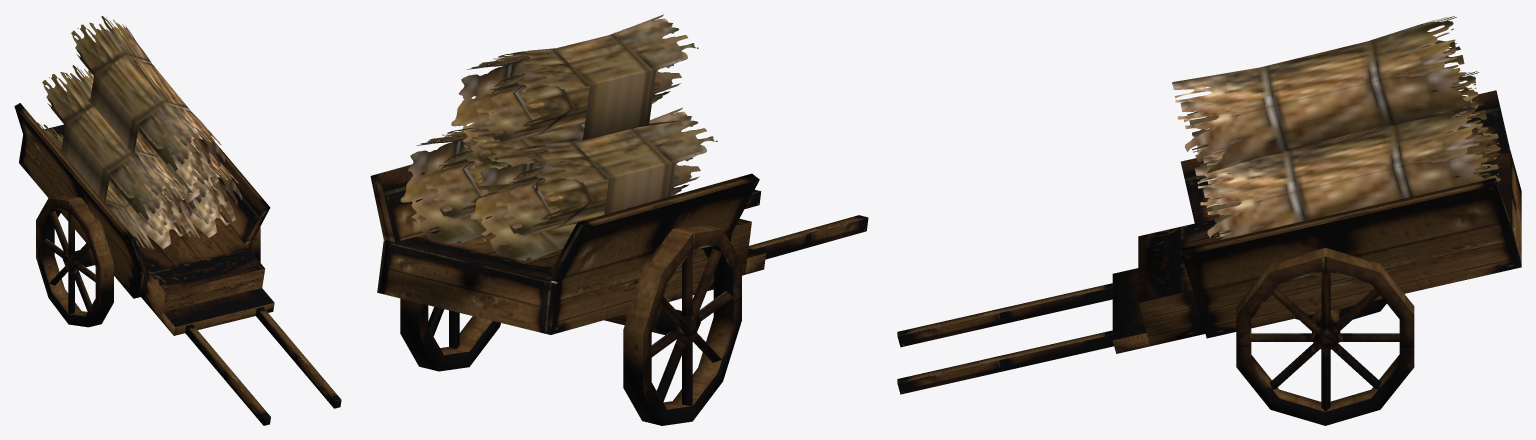
3 views of the same model, side by side, from view 1: azimuth 30°, elevation 25°; view 2: azimuth 150°, elevation 25°; view 3: azimuth 270°, elevation 25° (orthographic). The views are drawn at different scales.
Visible parts, largest first — view 1: wj076; view 2: wj076; view 3: wj076.
Boxes of the visible parts, box(x1,y1,x2,y2) form: wj076: box(14, 16, 341, 425); wj076: box(370, 14, 868, 425); wj076: box(897, 16, 1521, 425).
Size of the model in its own units: 455 by 696 by 1110.
